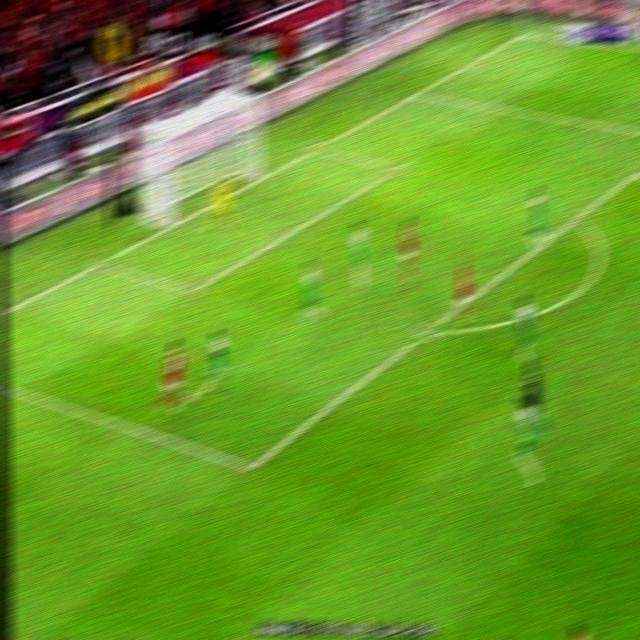bigarea_bottom_inner: (234, 449, 264, 482)
bigarea_top_outter: (405, 82, 428, 104)
bottom_arc_area_intersection: (412, 318, 440, 344)
corner: (510, 26, 537, 40)
smallarea_bottom_inner: (178, 272, 205, 304)
smallarea_bottom_outter: (85, 251, 113, 274)
smallarea_top_inner: (384, 156, 407, 178)
smallarea_top_outter: (304, 136, 328, 159)
top_arc_area_intersection: (564, 208, 586, 228)
